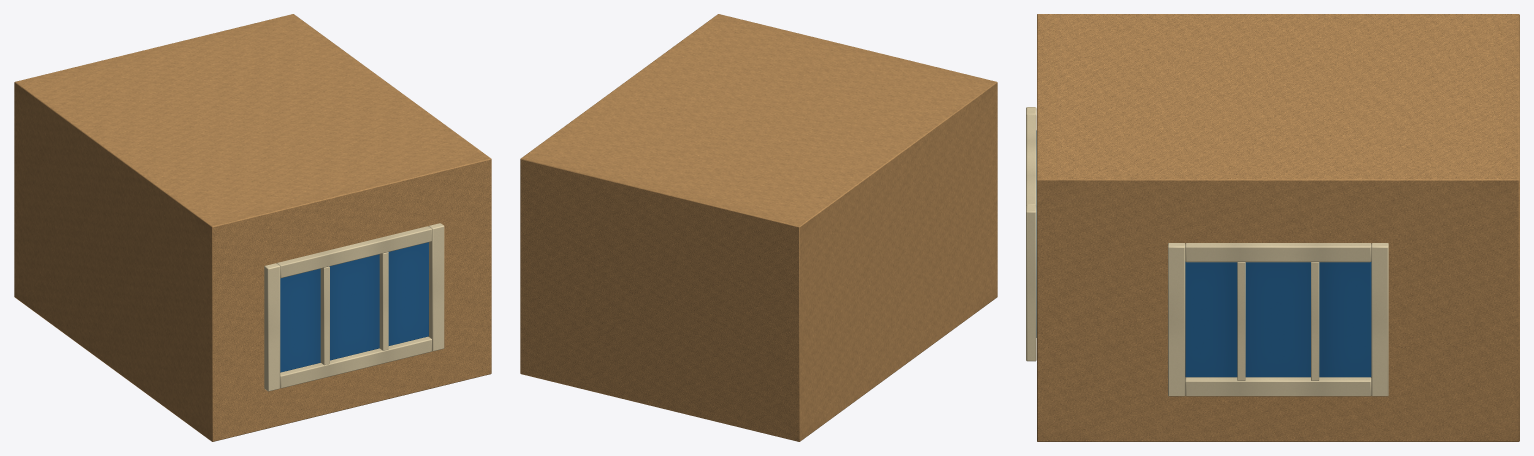
The model's file is 10-top-box-right-wing.fbx.
3 renders of one model, left to right at view 1: azimuth 30°, elevation 25°; view 2: azimuth 150°, elevation 25°; view 3: azimuth 270°, elevation 25°, orthographic. The views are drawn at different scales.
Visible parts, largest first — view 1: top-box-right-wing; view 2: top-box-right-wing; view 3: top-box-right-wing.
Boxes of the visible parts, x1,y1,x2,y2 form: top-box-right-wing: (14, 14, 491, 441); top-box-right-wing: (520, 14, 997, 441); top-box-right-wing: (1026, 14, 1519, 441).
Size of the model in its own units: 5855 by 4200 by 7155.
1 material, 1 textured.
